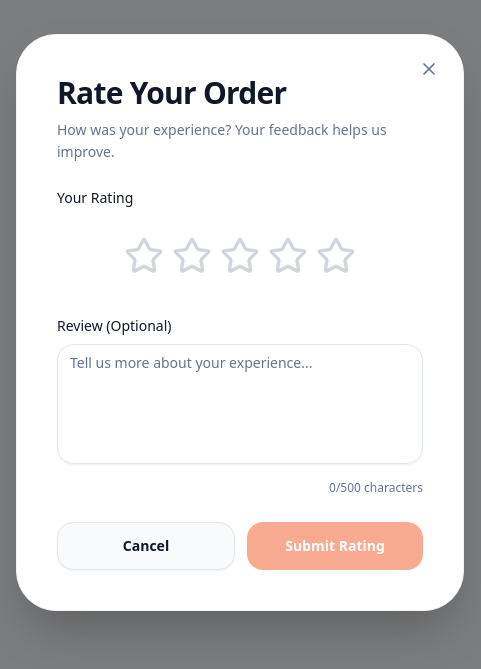
Test case: RateOrderModal › should update rating when star is clicked
This screenshot has width=481, height=669.
Note: Click the 4th star
Click the 5th button at (288, 256), box left=268, top=236, right=308, bottom=276
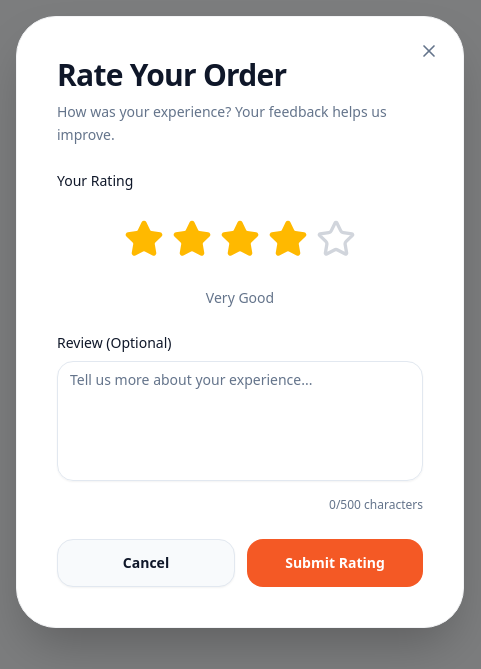
Result: the text "Very Good" is shown at left=206, top=288, right=274, bottom=307
